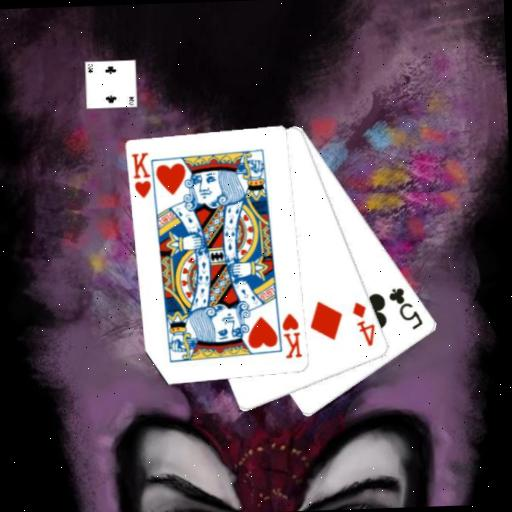4D: (349, 299, 378, 349)
5C: (385, 283, 425, 332)
KH: (279, 309, 304, 360), (128, 149, 153, 200)
